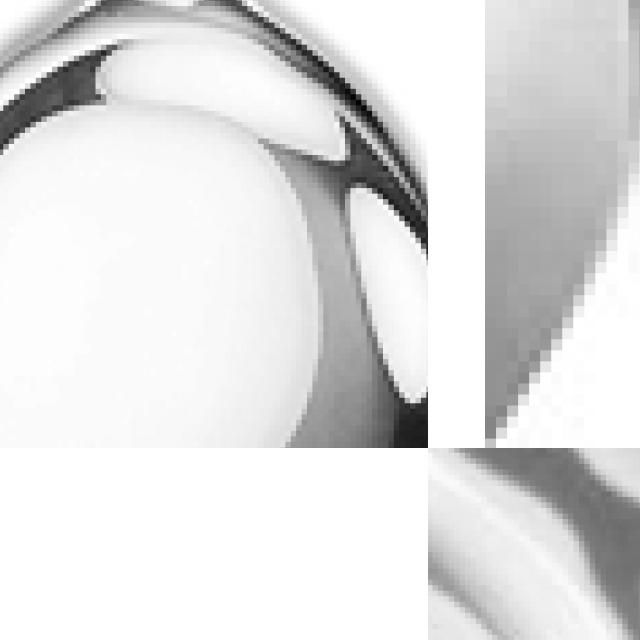spoons: (0, 0, 428, 448), (485, 0, 640, 448)
